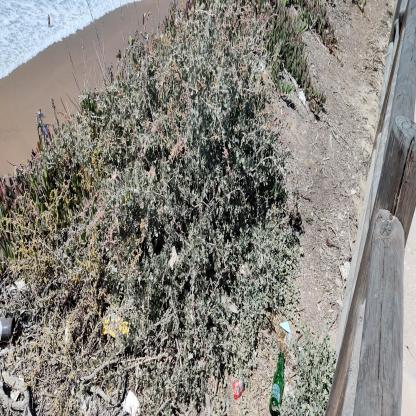Cigarette: (317, 303, 321, 311)
Glass bottle: (269, 352, 284, 416), (0, 317, 15, 341)
Other plastic: (102, 312, 131, 339)
Plastic film: (221, 295, 239, 318)
Unlabeled litter: (120, 390, 140, 416), (6, 278, 25, 292), (233, 379, 244, 400), (341, 262, 351, 281), (169, 246, 177, 269), (298, 90, 306, 107), (279, 322, 291, 333), (284, 332, 292, 348), (65, 319, 69, 346)
